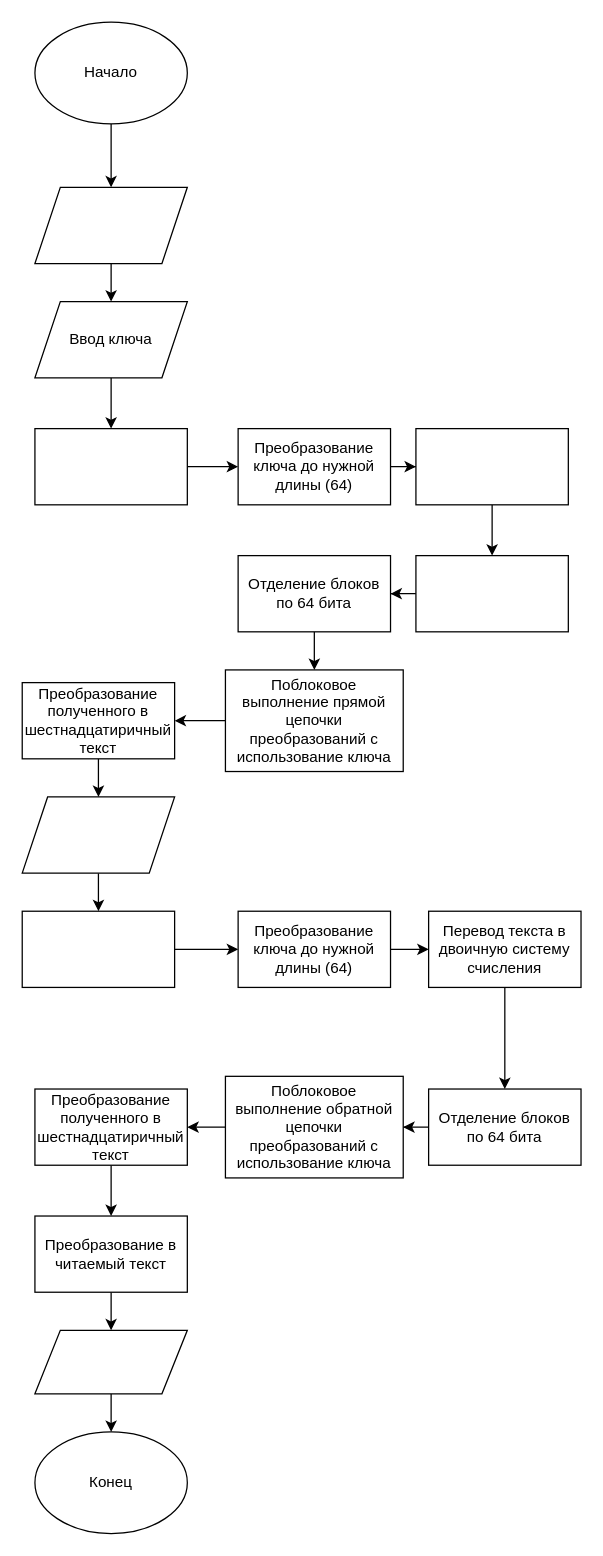
This 603x1556 diagram has some shape labels left out. The centre of each missing label's shape, as x and y in pixels:
Ввод текста для шифрования: (x=110, y=225)
Вывод зашифрованного сообщения: (x=98, y=834)
Вывод расшифрованного сообщения: (x=110, y=1361)
Вызов функции расшифрования: (x=98, y=948)
Вызов функции шифрование: (x=110, y=466)
Преобразование текста в 16-тиричный формат: (x=491, y=466)
Преобразование текста в двоичный формат: (x=491, y=593)
